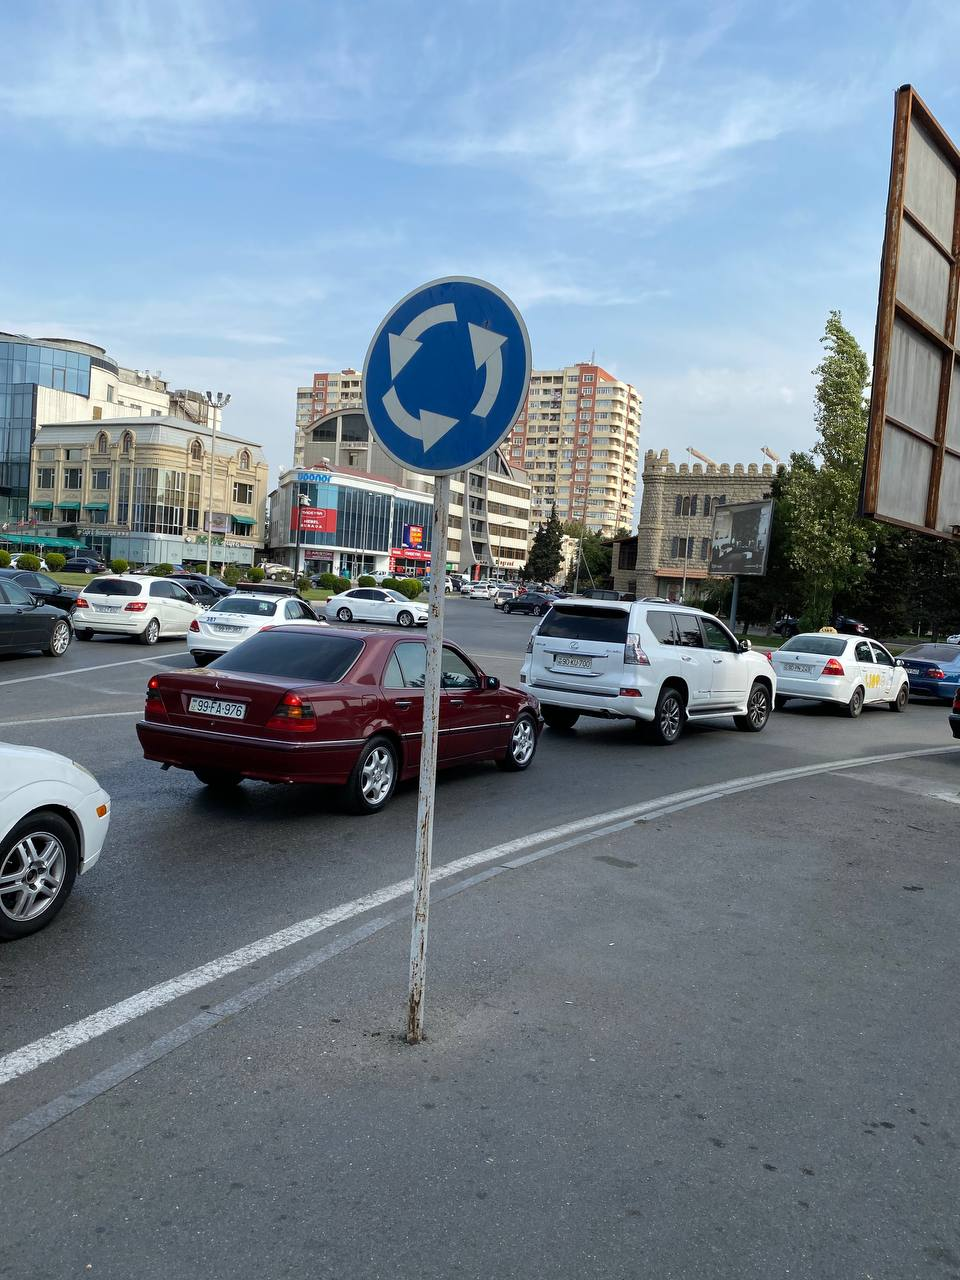Round-About: (361, 276, 533, 475)
